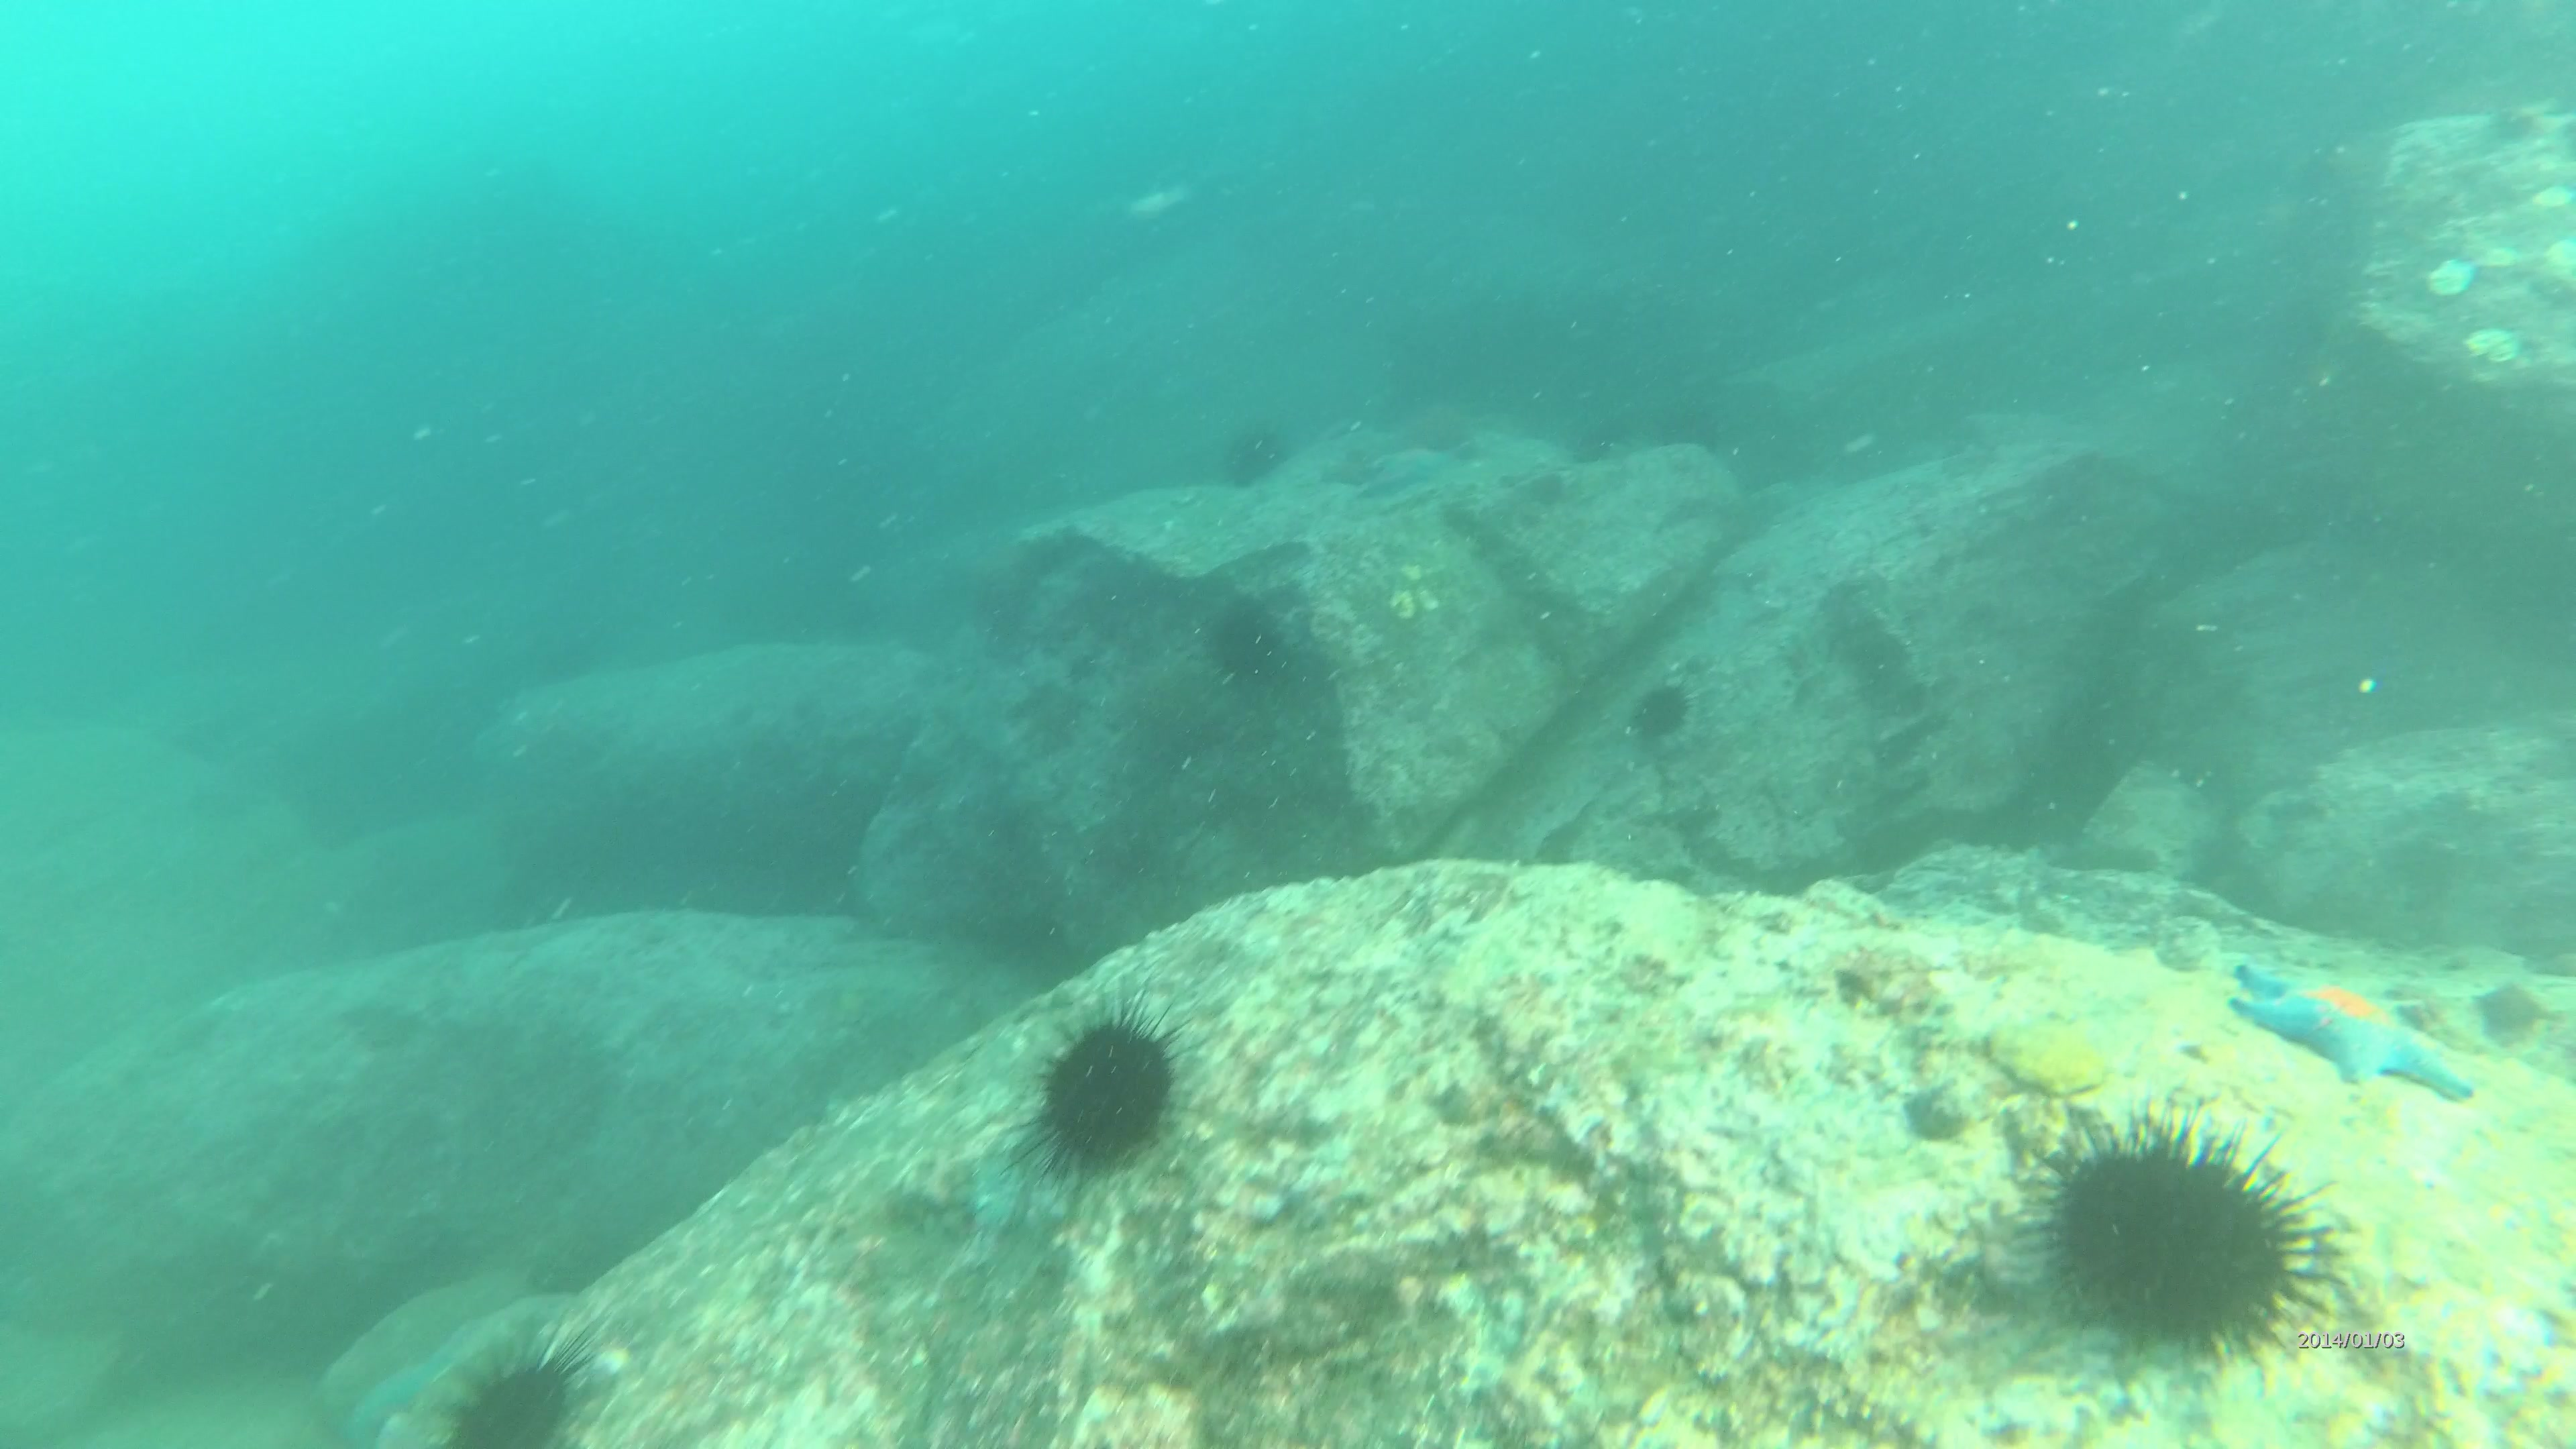echinus: (2001, 1083, 2353, 1378), (1016, 993, 1215, 1177), (425, 1311, 612, 1449), (1200, 580, 1299, 672), (1215, 419, 1304, 494), (1628, 678, 1706, 743)
starfish: (2229, 945, 2479, 1111), (1359, 432, 1476, 502)
